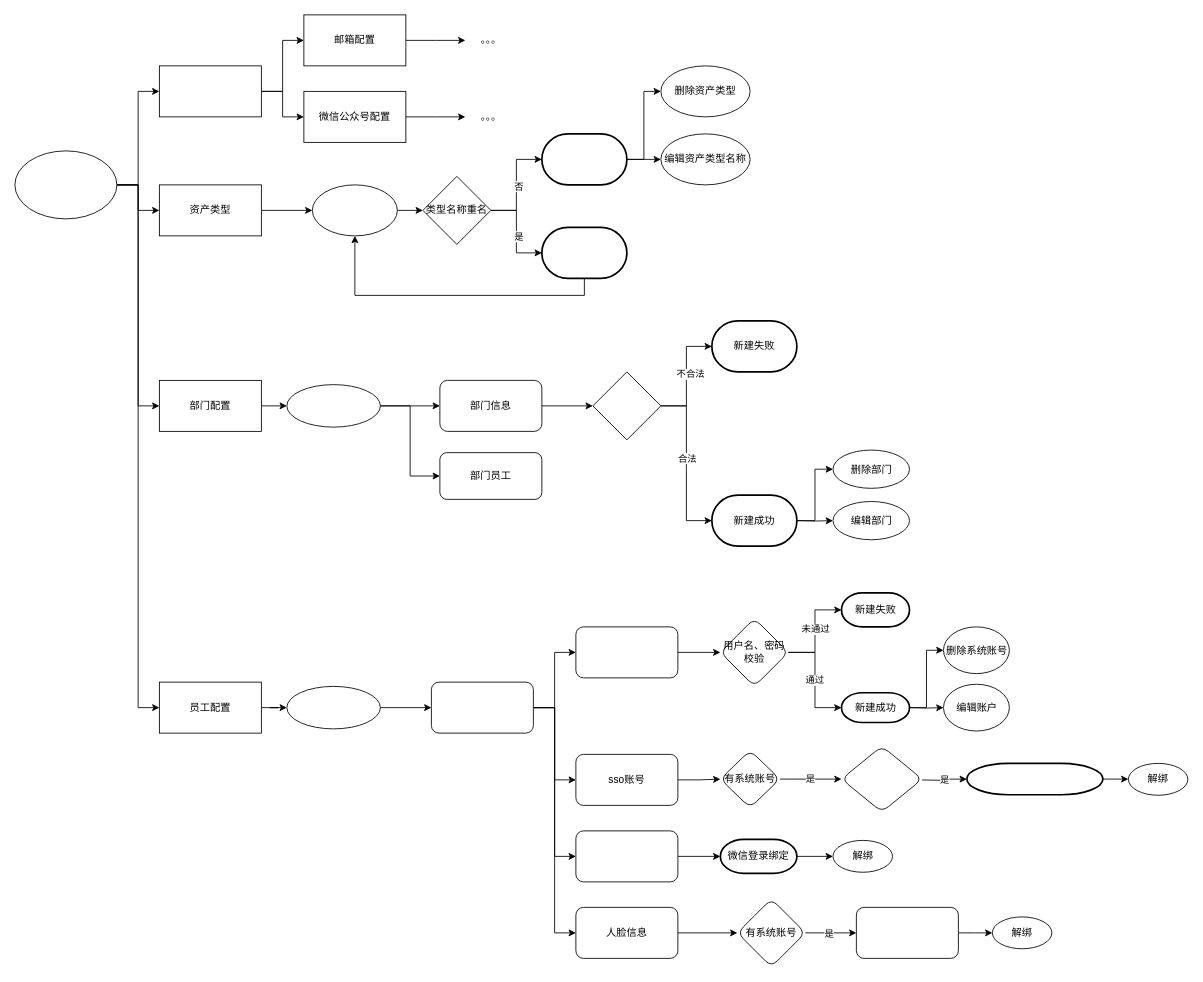
Some shapes in this 1203 by 982 pixel diagram are drawn without their labels. Here are the shapes that lost their labels. From the top down, the centre of each, then its label:
At point 210,91: "消息通知配置".
At point 584,159: "新增成功".
At point 65,184: "系统设置".
At point 354,210: "新增资产类型".
At point 584,252: "新增失败".
At point 333,405: "新增部门".
At point 626,405: "部门信息检查".
At point 626,652: "系统账号".
At point 333,707: "新增员工".
At point 482,707: "员工信息".
At point 881,778: "sso账号未绑定其他系统账号".
At point 1034,778: "完成账号与sso账号的绑定".
At point 626,856: "微信账号".
At point 907,932: "上传人脸照片至云端完成人脸与账号的绑定".
